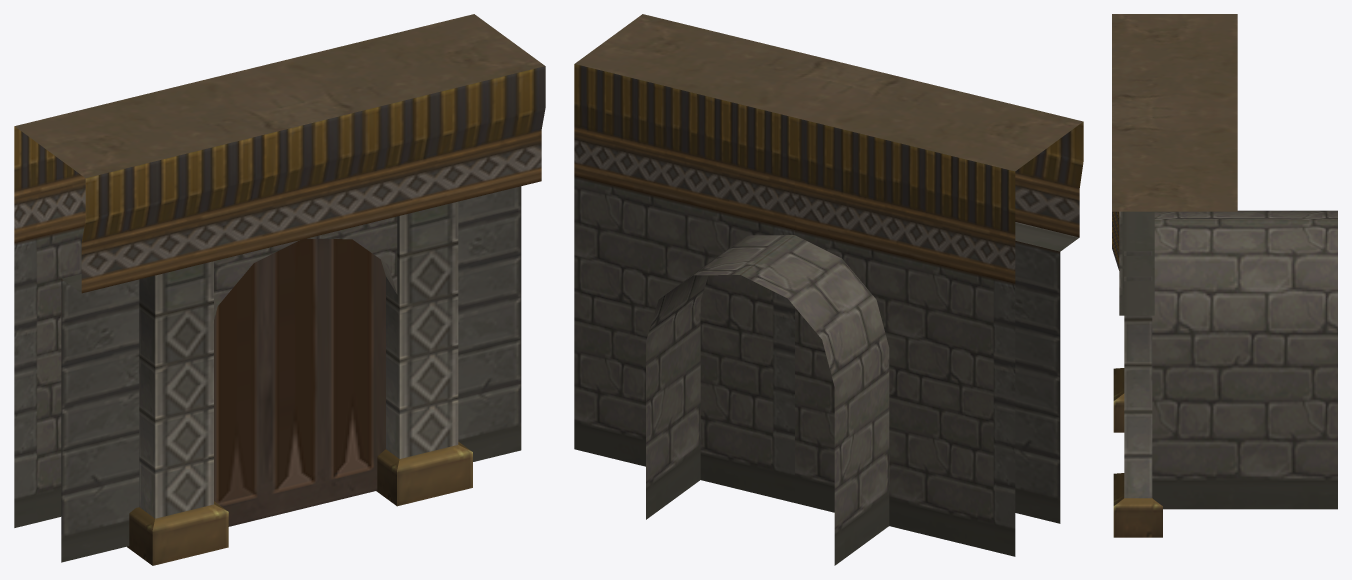
The model's file is Battle06_Wall_01.FBX.
The picture shows the model from 3 angles, left to right: view 1: azimuth 30°, elevation 25°; view 2: azimuth 150°, elevation 25°; view 3: azimuth 270°, elevation 25°; orthographic projection. The views are drawn at different scales.
Visible parts, largest first — view 1: Battle06_Wall_01; view 2: Battle06_Wall_01; view 3: Battle06_Wall_01.
Part boxes in pixels (x1,y1,x2,y2): Battle06_Wall_01: (14,14,545,565); Battle06_Wall_01: (574,14,1083,565); Battle06_Wall_01: (1112,14,1337,537).
Size of the model in its own units: 11.09 by 9.33 by 5.35.
